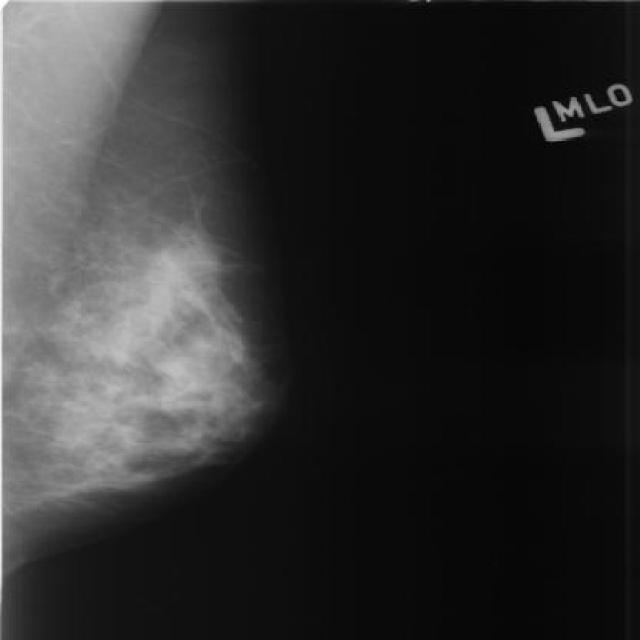tumor: (52, 212, 264, 521)
